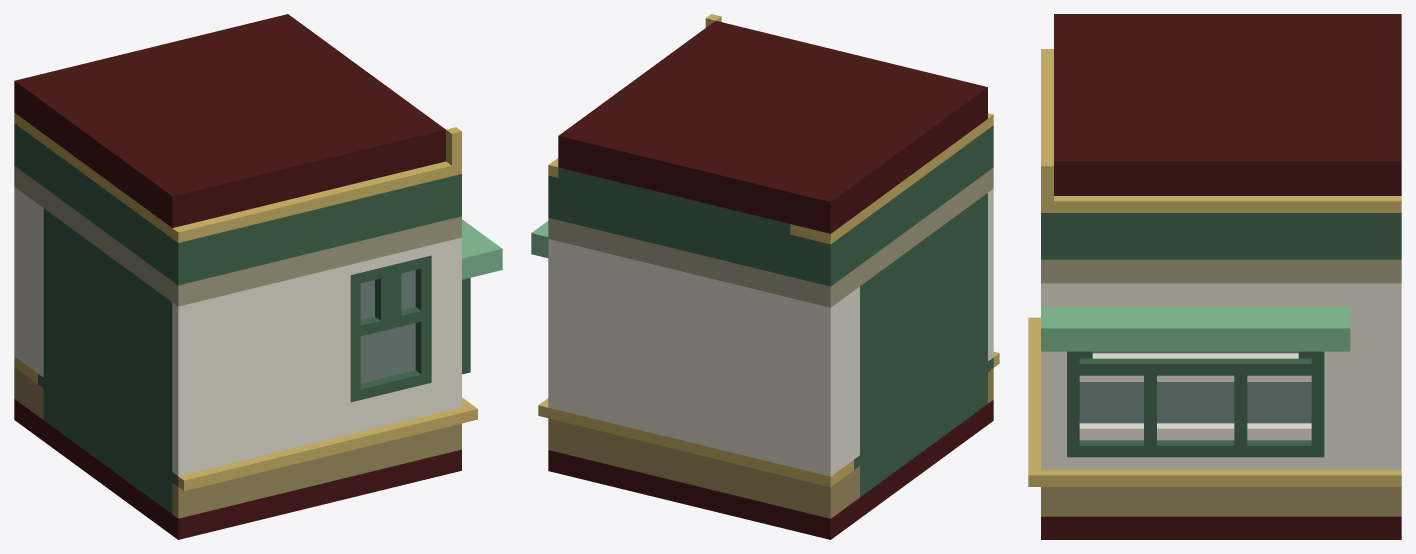
File: tile_2_left_nr_corner.obj
3 renders of one model, left to right at view 1: azimuth 30°, elevation 25°; view 2: azimuth 150°, elevation 25°; view 3: azimuth 270°, elevation 25°, orthographic. The views are drawn at different scales.
Size of the model in its own units: 3.2 by 3.2 by 2.9.
